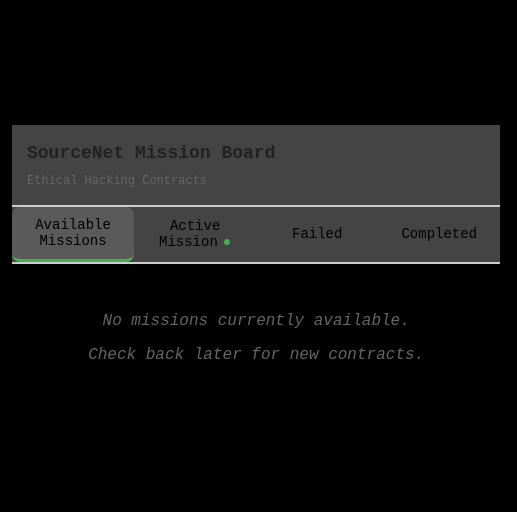
MissionBoard Component › file checklist display › should display file checklist for pending file operation objective
The width and height of the screenshot is (517, 512).
# Click on Active Mission tab
Step 1. Click the button "Active Mission●" → click(195, 234), box [134, 206, 256, 262]
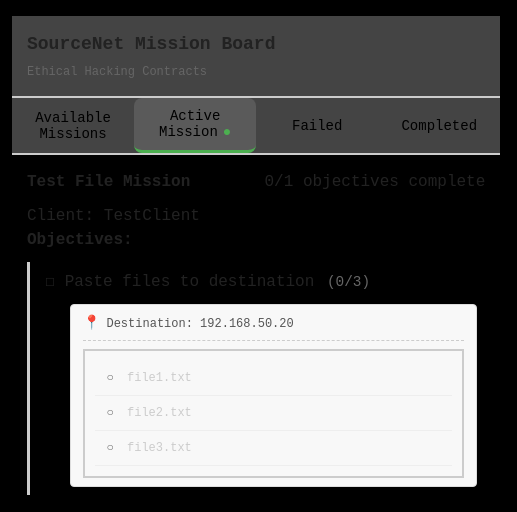
Expected: the text "Destination: 192.168.50.20" is shown, [106, 314, 294, 332]
Expected: the text "file1.txt" is shown, [127, 371, 192, 385]
Expected: the text "file2.txt" is shown, [127, 406, 192, 420]
